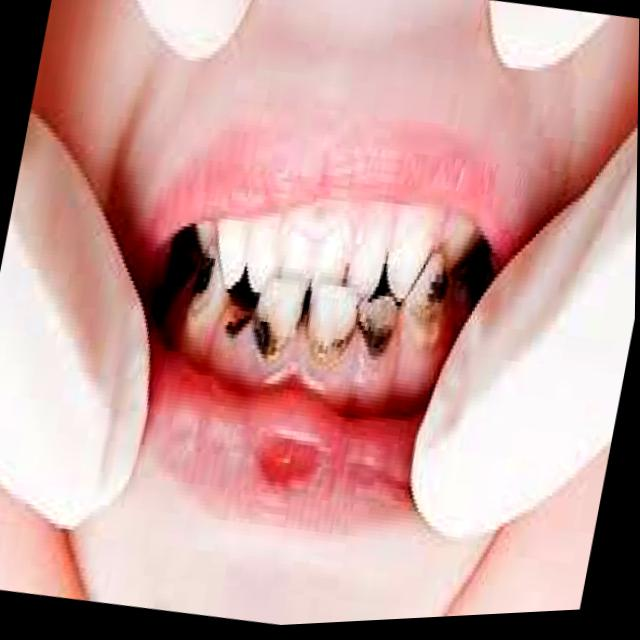cariess: (404, 254, 446, 322), (358, 296, 398, 356), (253, 316, 286, 359), (226, 319, 251, 338)
